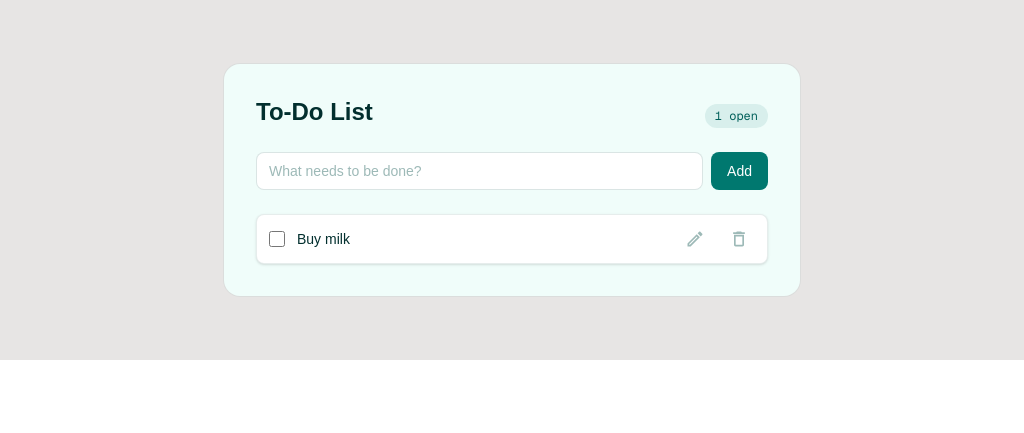
Test: Home page › shows an error banner and keeps the task when deleting fails
The width and height of the screenshot is (1024, 433).
Expected: the text "Buy milk" is shown, [297,231,350,247]
Click the button named "delete": x=739, y=239 [723,223,755,255]
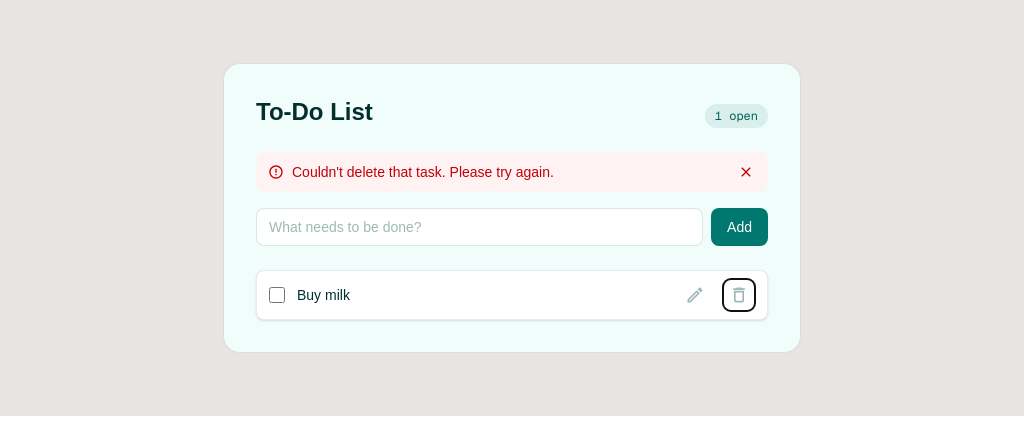
Expected: the text "Buy milk" is shown, [297,287,350,303]
Result: the message shows "Couldn't delete" at [292,164,554,180]
